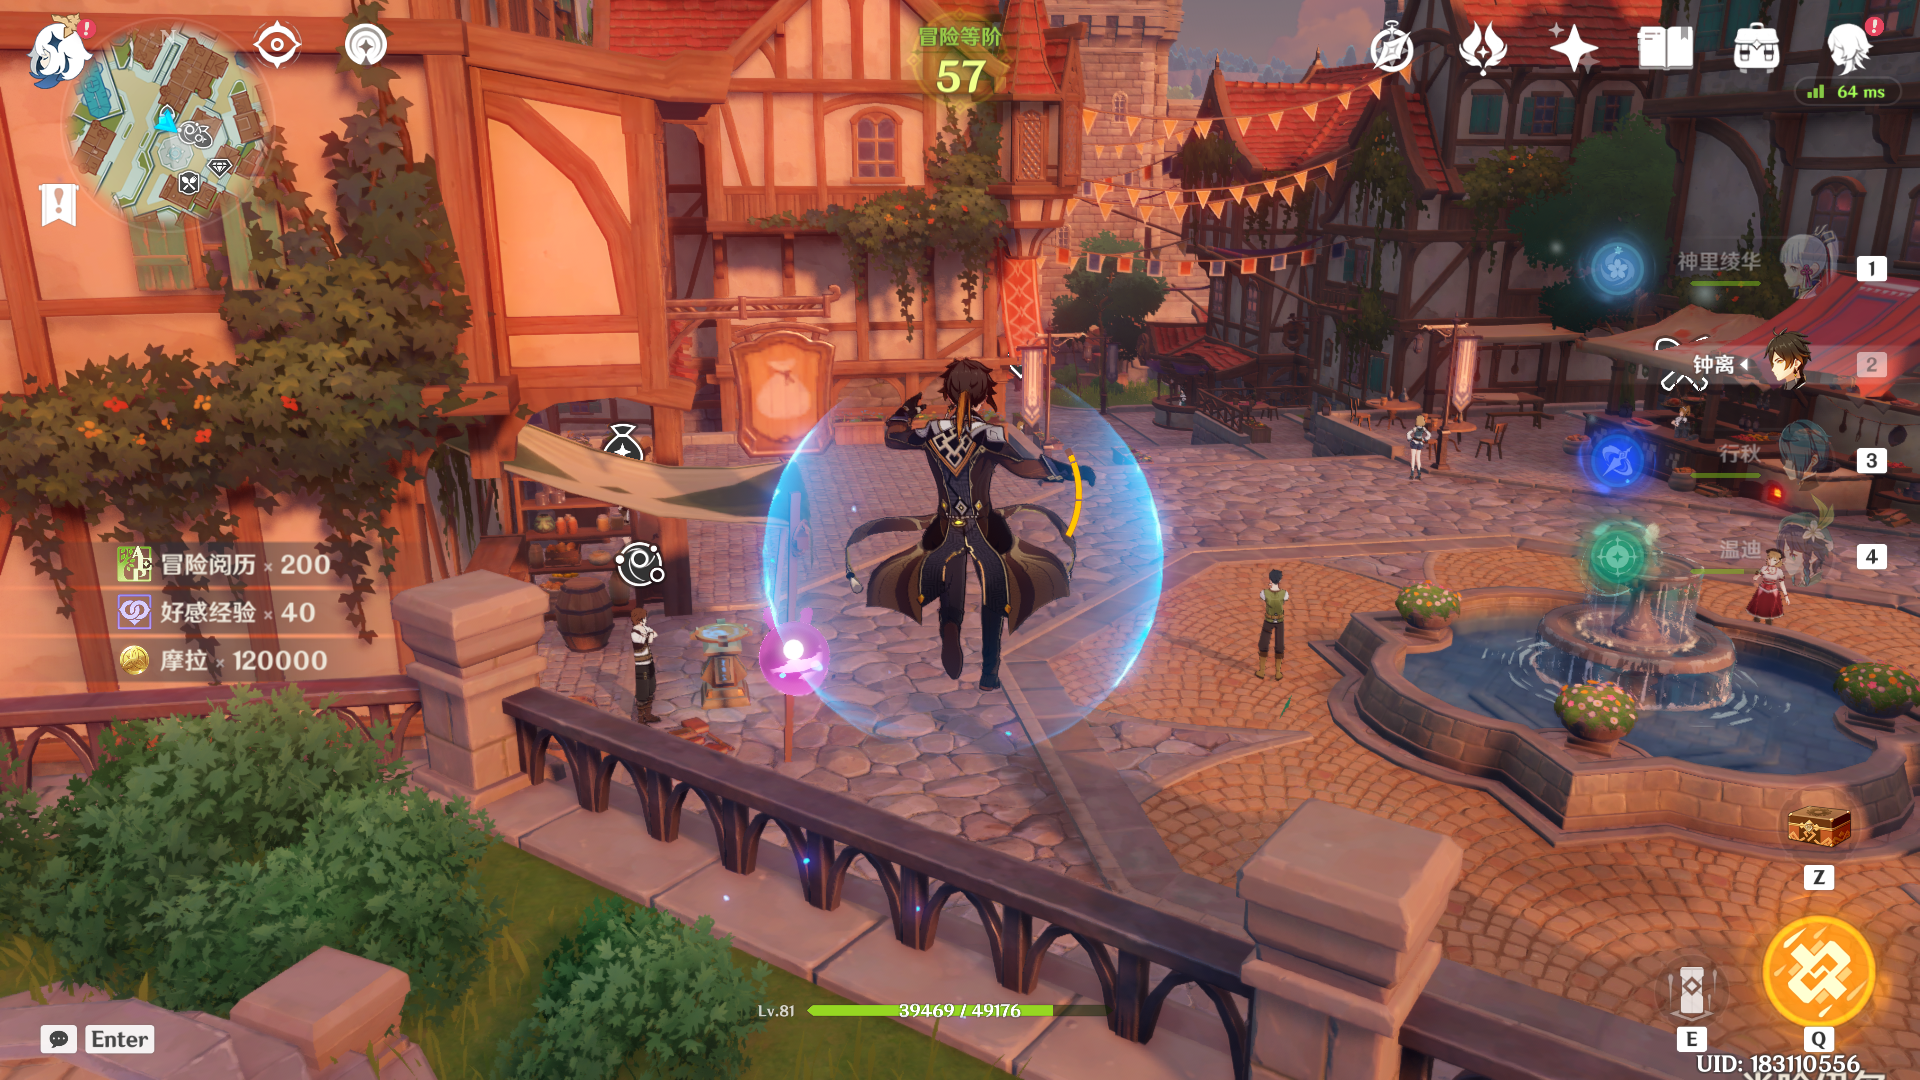character: (837, 363, 1124, 742)
